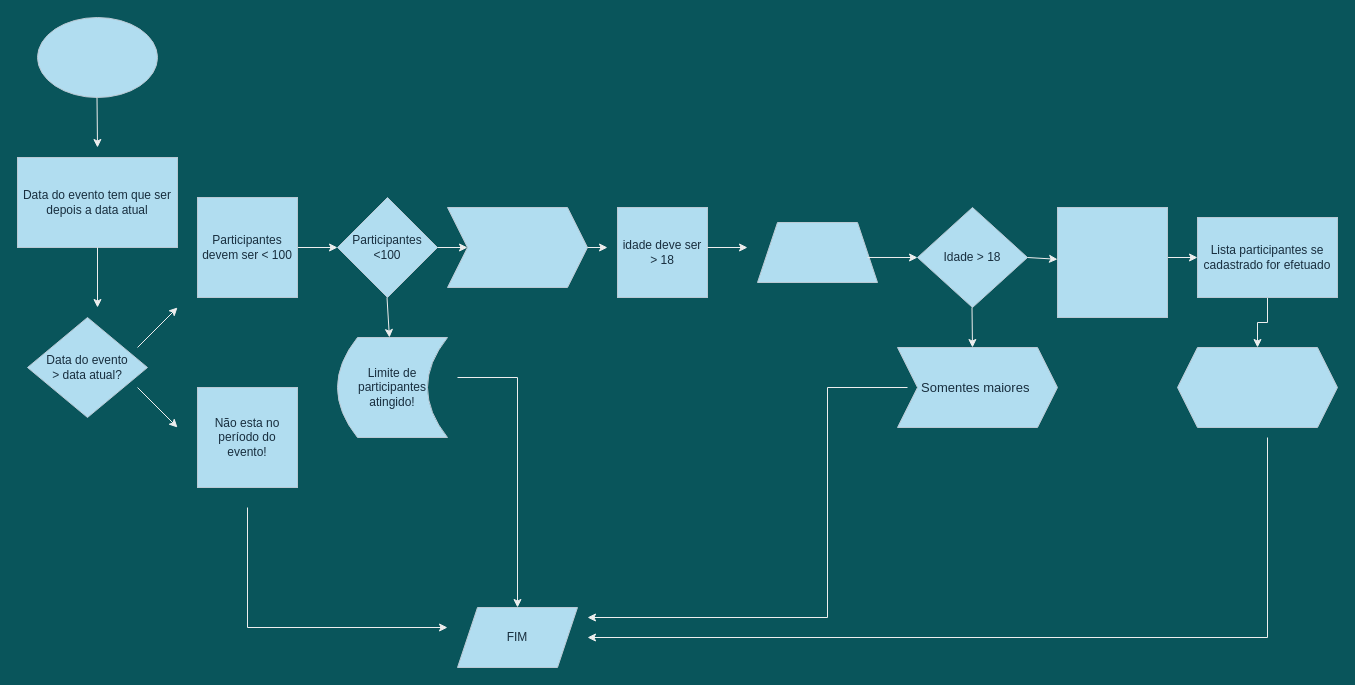
Some shapes in this 1355 by 685 pixel diagram are drawn without their labels. Each missing label, with the centre of its shape:
"Cadastro efetuado!" belongs at point 1112,262.
"Idade" belongs at point 817,252.
"Informe sua idade" belongs at point 517,247.
"Inicio" belongs at point 97,57.
"Lista de participantes e palestrantes" belongs at point 1257,387.
